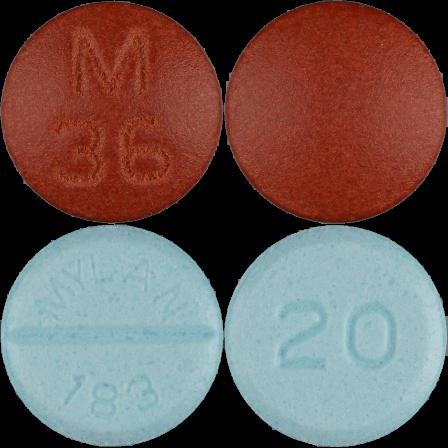55154-5066: (0, 0, 224, 224)
